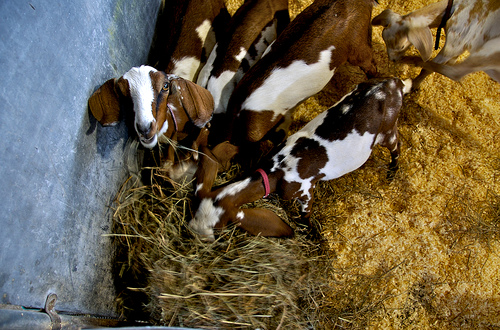goat: (182, 78, 414, 246), (174, 1, 373, 194), (88, 1, 226, 181), (164, 1, 290, 192), (370, 1, 500, 94)
